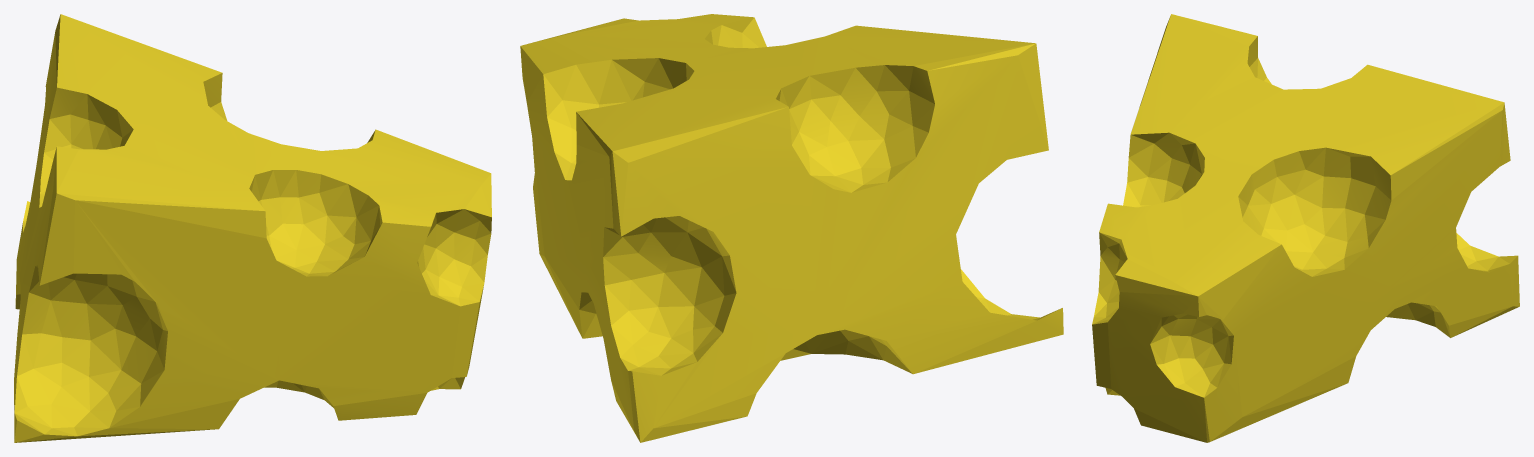
File: formaggio_LOD1.fbx
3 renders of one model, left to right at view 1: azimuth 30°, elevation 25°; view 2: azimuth 150°, elevation 25°; view 3: azimuth 270°, elevation 25°, orthographic. The views are drawn at different scales.
Parts seen in each view (by area): view 1: clothes_018; view 2: clothes_018; view 3: clothes_018.
Boxes of the visible parts, bbox=[...] form: clothes_018: bbox=[14, 14, 491, 442]; clothes_018: bbox=[520, 14, 1063, 442]; clothes_018: bbox=[1092, 14, 1519, 442].
Size of the model in its own units: 63.14 by 34.85 by 54.92.
